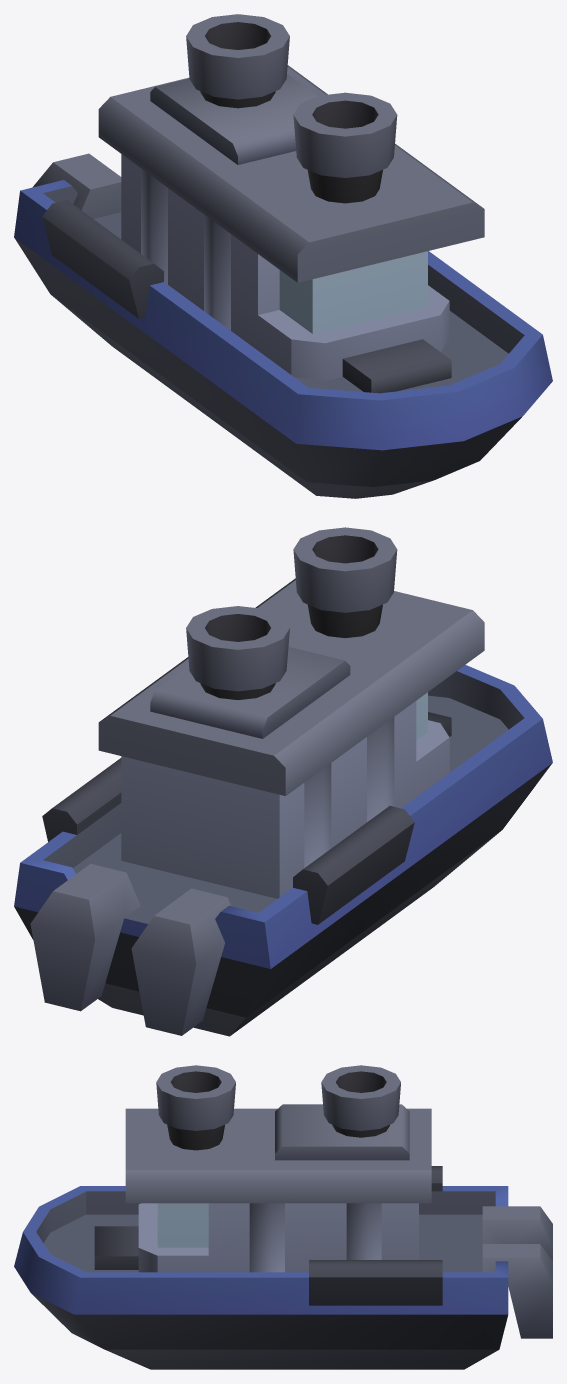
The model's file is boat-tow-a.glb.
The picture shows the model from 3 angles, top to bottom: view 1: azimuth 30°, elevation 25°; view 2: azimuth 150°, elevation 25°; view 3: azimuth 270°, elevation 25°; orthographic projection. The views are drawn at different scales.
Visible parts, largest first — view 1: boat-tow-a; view 2: boat-tow-a; view 3: boat-tow-a.
Boxes of the visible parts, x1,y1,x2,y2 form: boat-tow-a: (14,14,552,498); boat-tow-a: (14,527,552,1036); boat-tow-a: (14,1065,552,1369).
Bounding box in the file's own units: 2.88 × 3.33 × 6.12.
